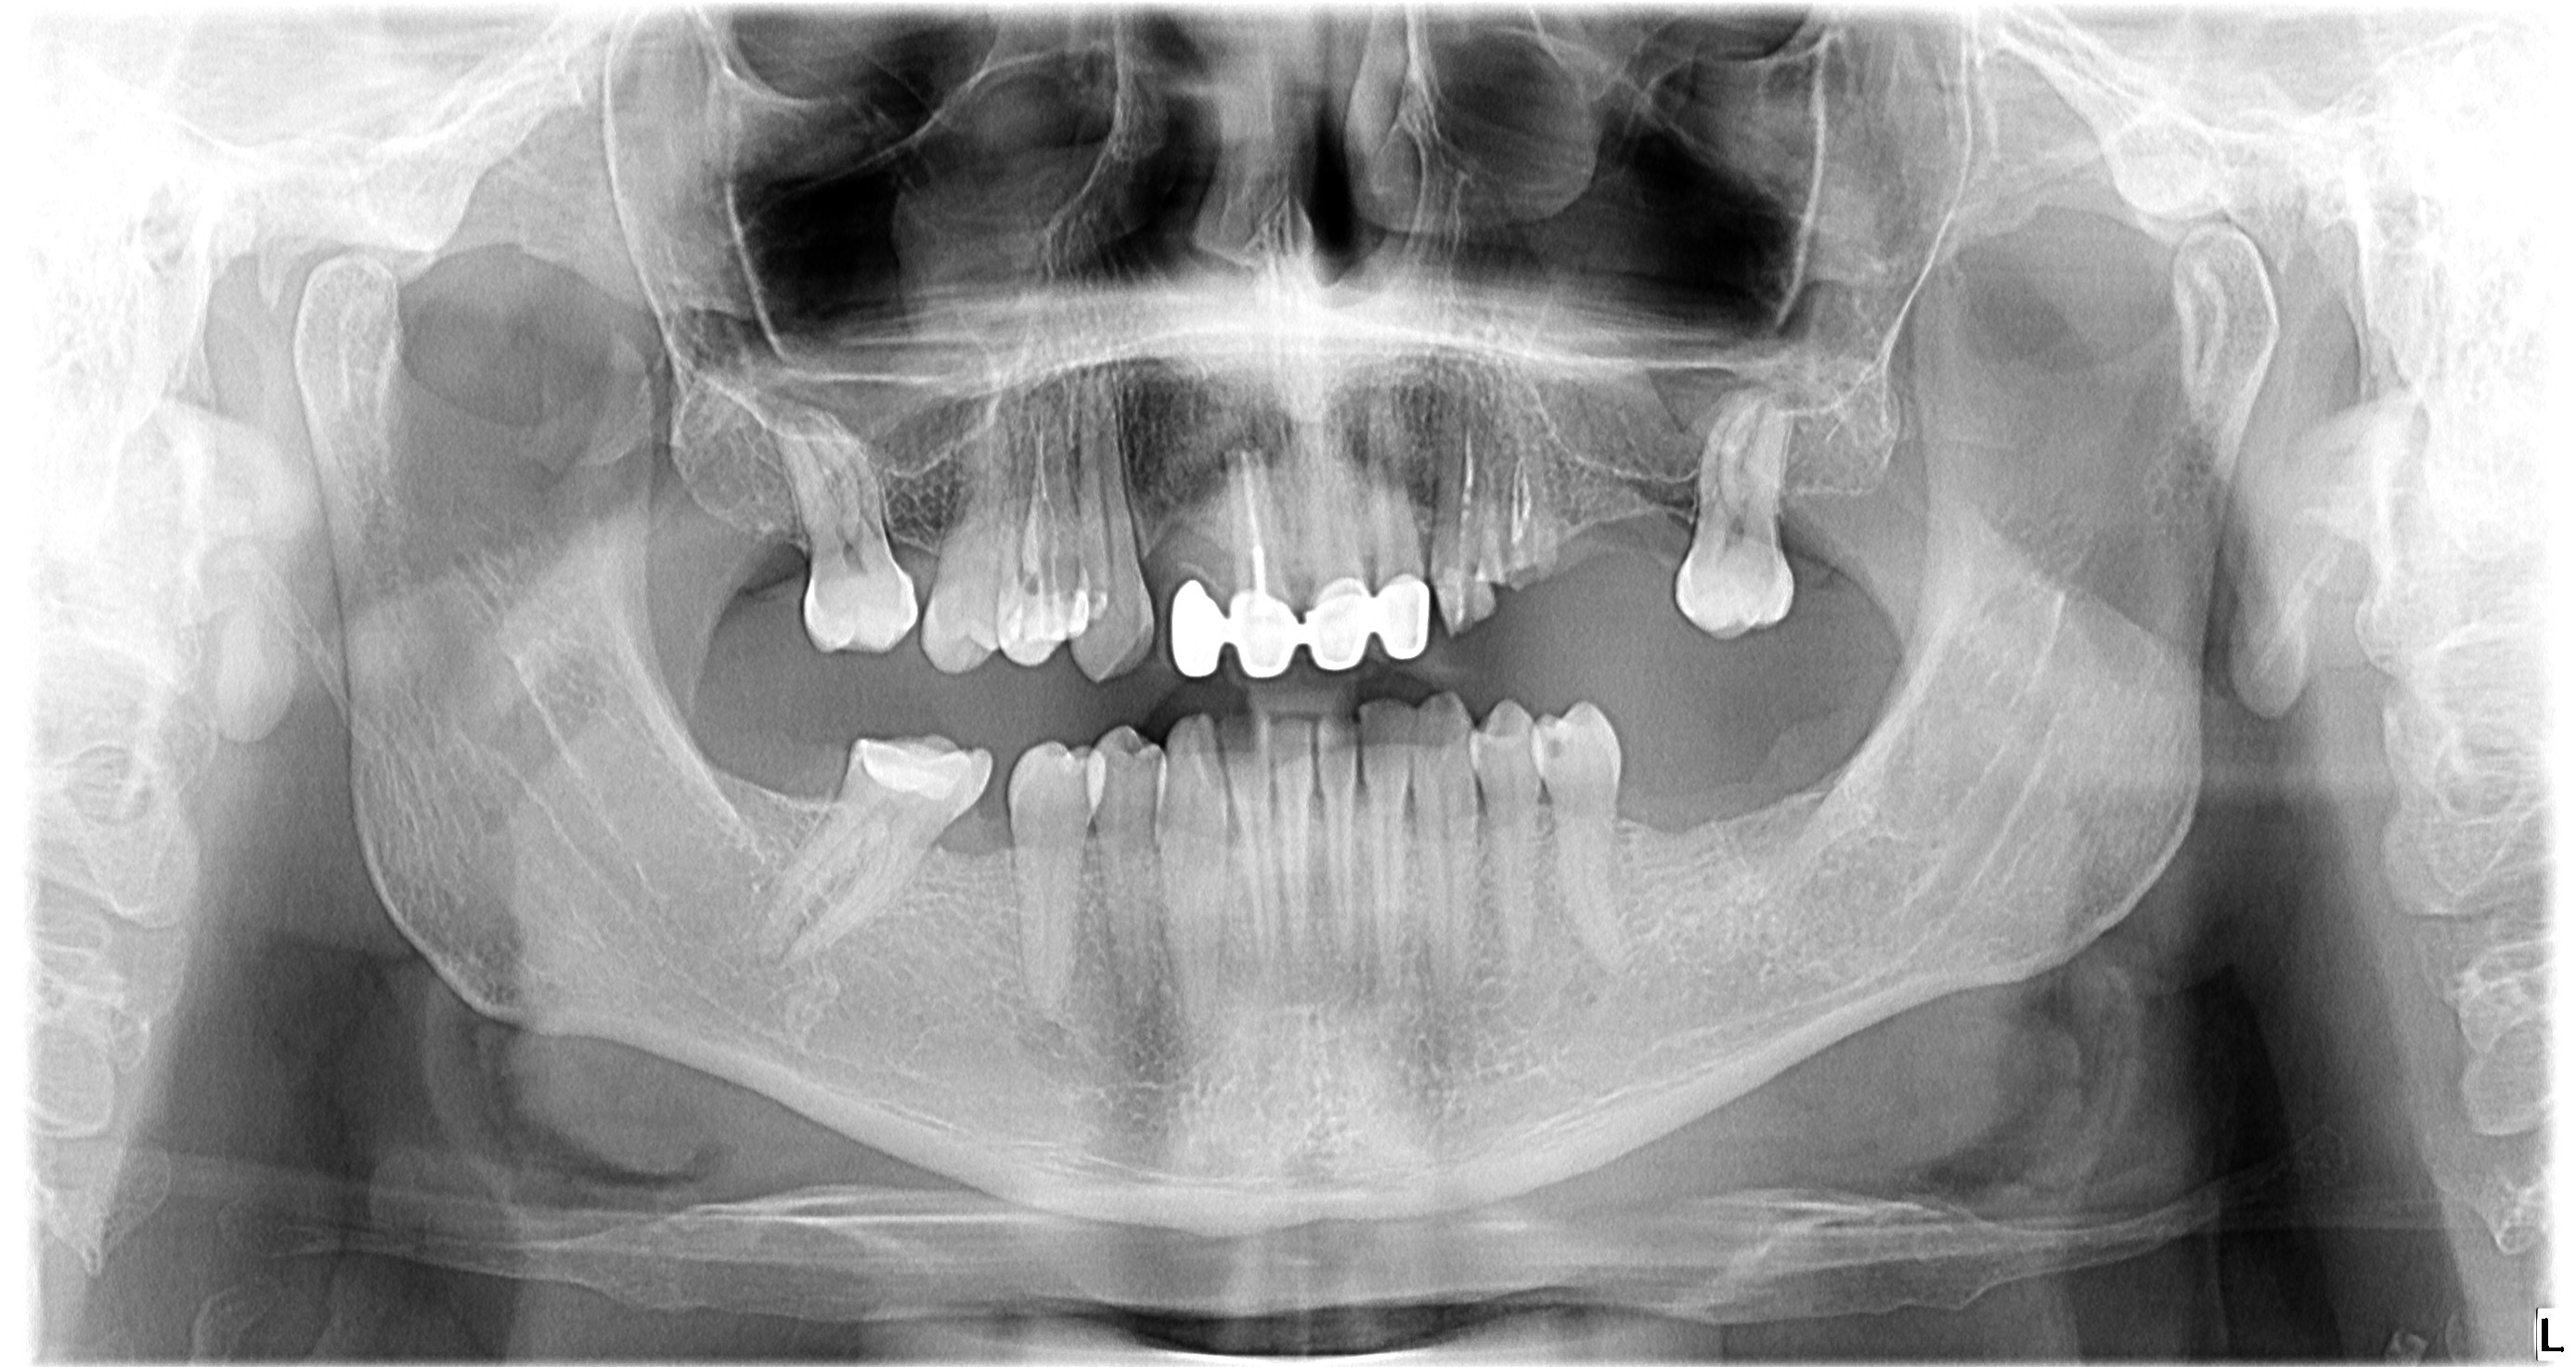API: (480, 153, 1552, 577)
CAR: (753, 335, 2319, 1105)
END: (717, 136, 2193, 708), (743, 191, 2281, 727), (595, 155, 1872, 752), (486, 126, 1544, 708)
OBT: (443, 237, 1888, 909)
PRR: (366, 323, 1344, 1125), (520, 272, 1637, 899)
ROT: (710, 131, 2276, 700)
